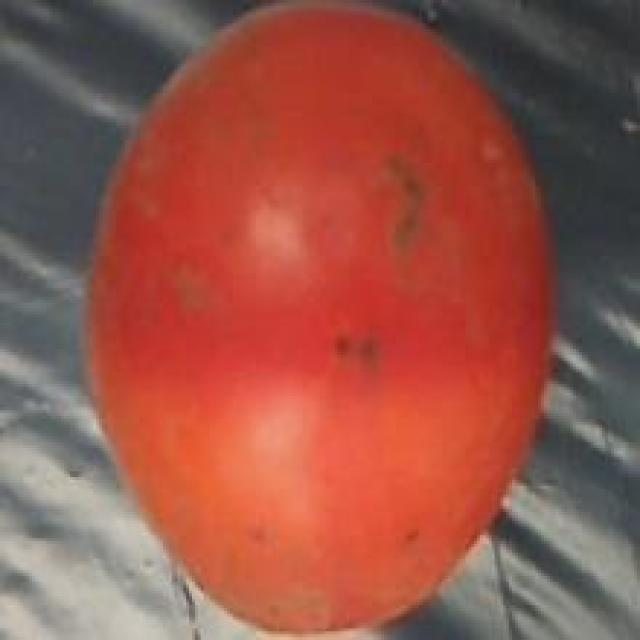overripe tomato: (70, 6, 582, 640)
